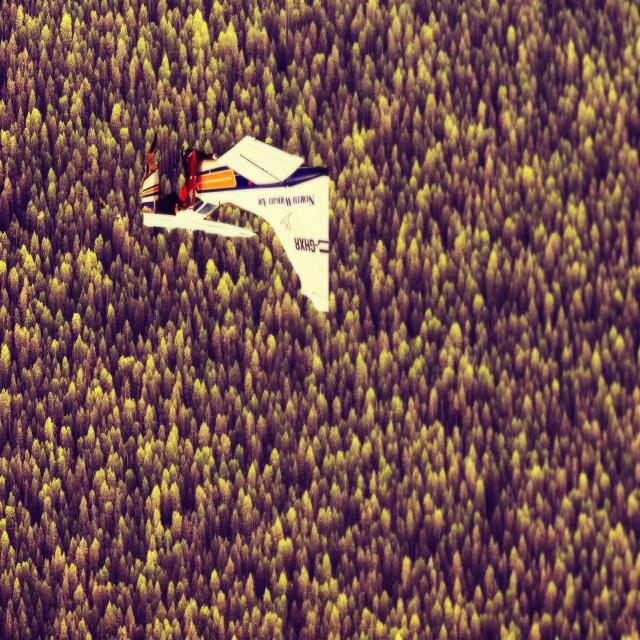airplane: (140, 132, 330, 314)
